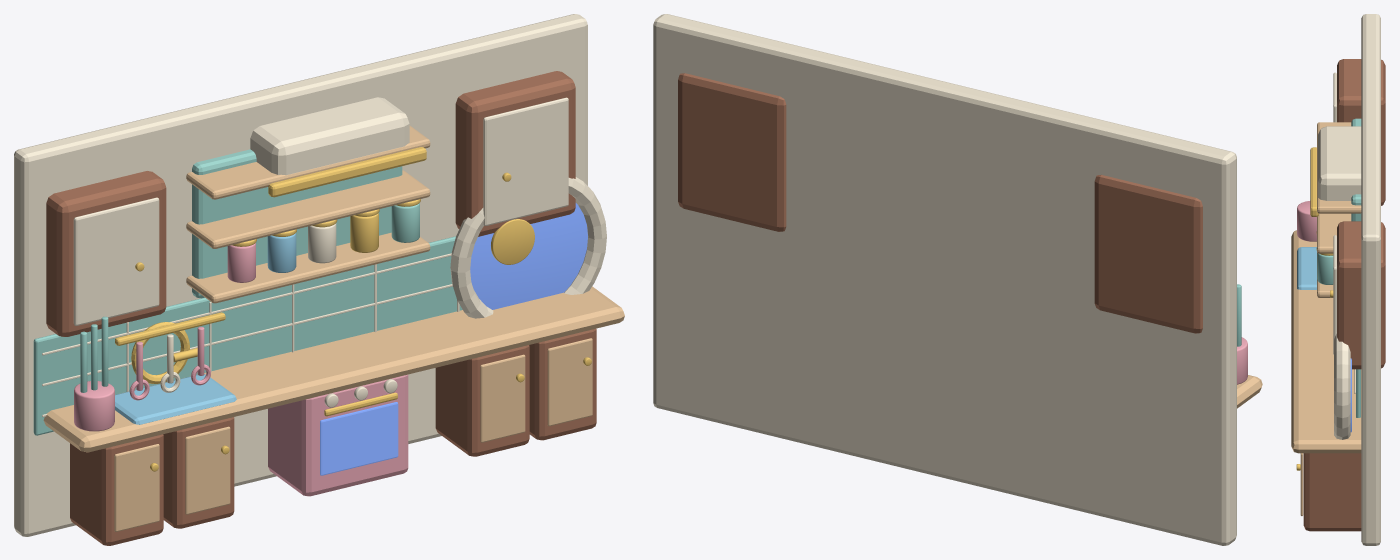
The model's file is MoonKitchenNook.fbx.
The picture shows the model from 3 angles, left to right: view 1: azimuth 30°, elevation 25°; view 2: azimuth 150°, elevation 25°; view 3: azimuth 270°, elevation 25°; orthographic projection. The views are drawn at different scales.
Visible parts, largest first — view 1: MoonKitchenNook; view 2: MoonKitchenNook; view 3: MoonKitchenNook.
Part boxes in pixels (bbox=[...]): MoonKitchenNook: bbox=[14, 14, 624, 545]; MoonKitchenNook: bbox=[653, 14, 1262, 545]; MoonKitchenNook: bbox=[1291, 14, 1385, 545].
Size of the model in its own units: 4.84 by 3.1 by 0.85.
